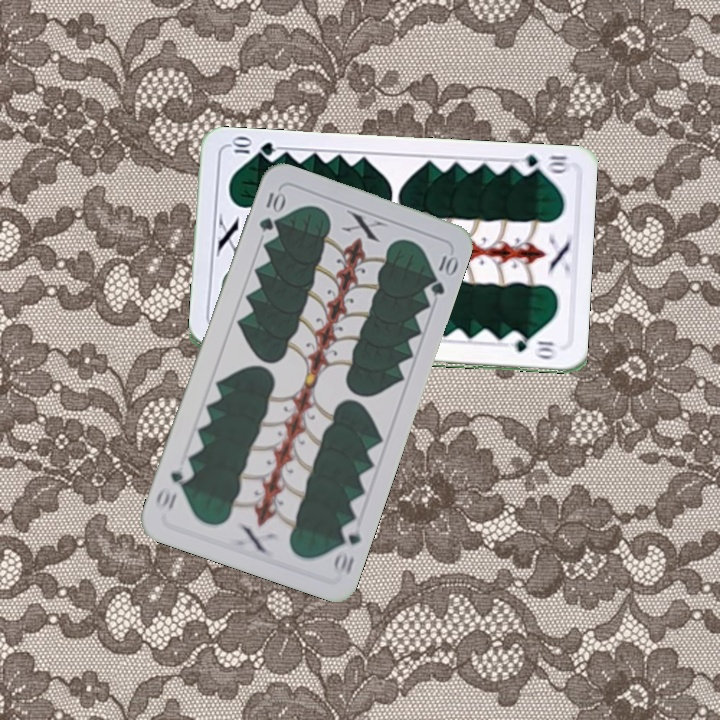G10: (329, 518, 364, 578), (255, 186, 287, 235), (512, 151, 570, 178)
